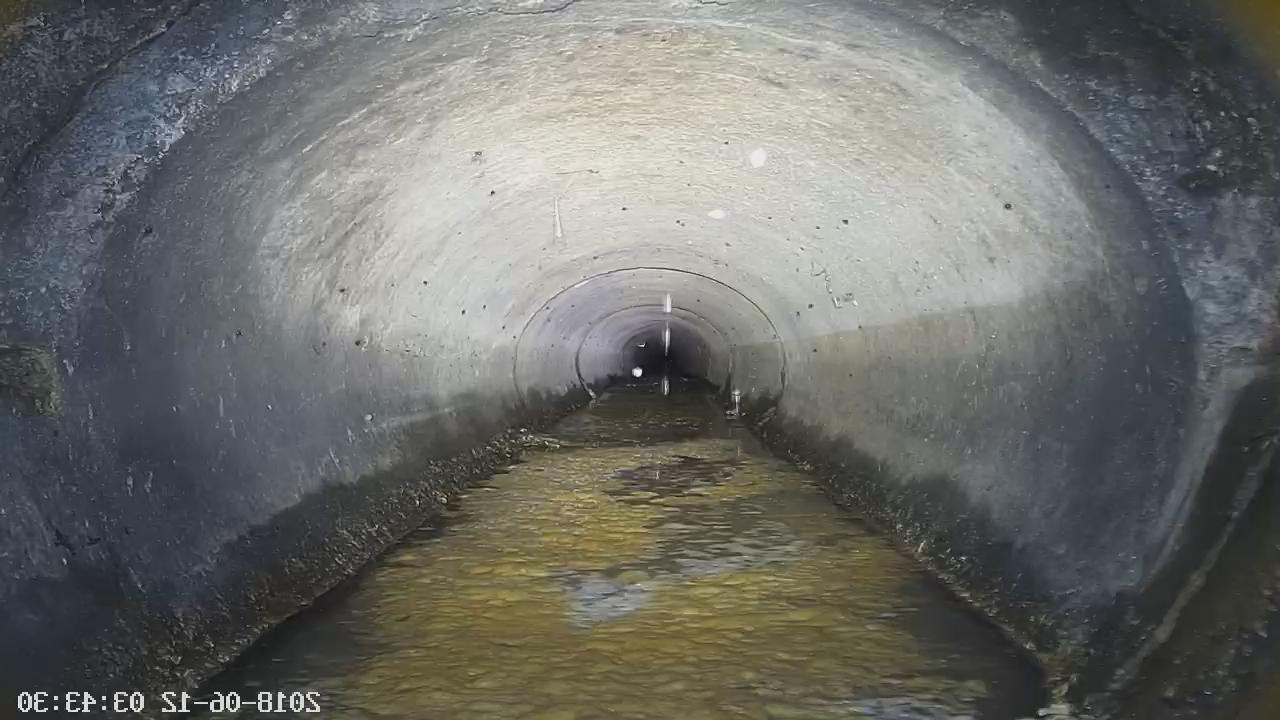FZ: (192, 383, 1045, 719)
